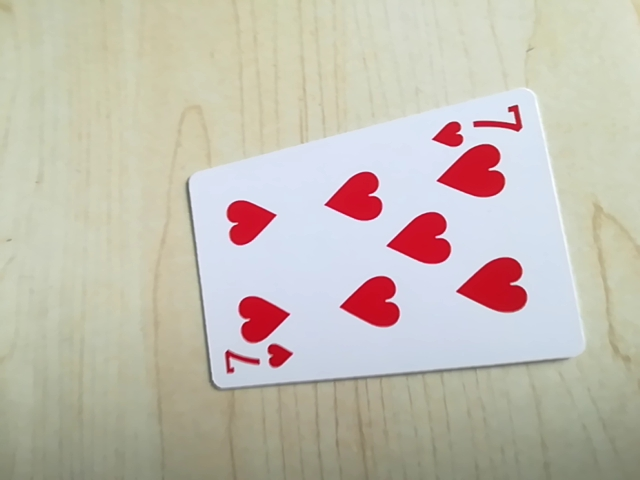hx 7: (429, 102, 529, 147), (219, 342, 301, 384)
